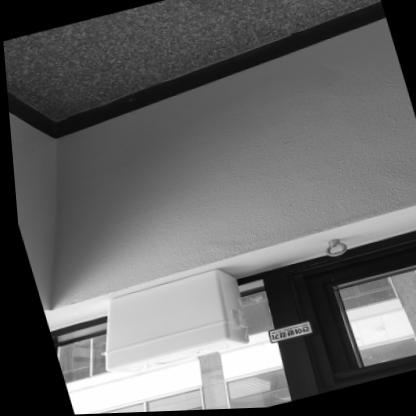DDL: (79, 265, 248, 379)
